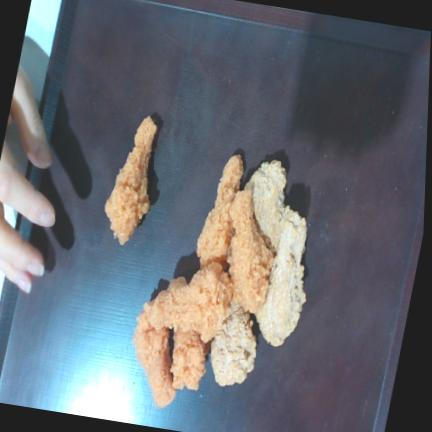chicken: (256, 207, 306, 346), (149, 263, 233, 343), (105, 116, 157, 245), (227, 190, 273, 312), (197, 155, 243, 267), (133, 302, 176, 408), (245, 161, 286, 250), (210, 306, 256, 385), (171, 331, 209, 390)
